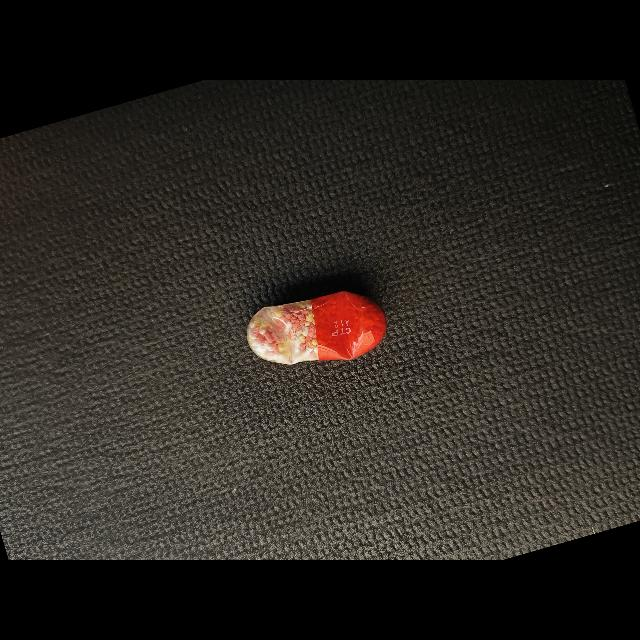Defective Capsule: (247, 291, 387, 365)
